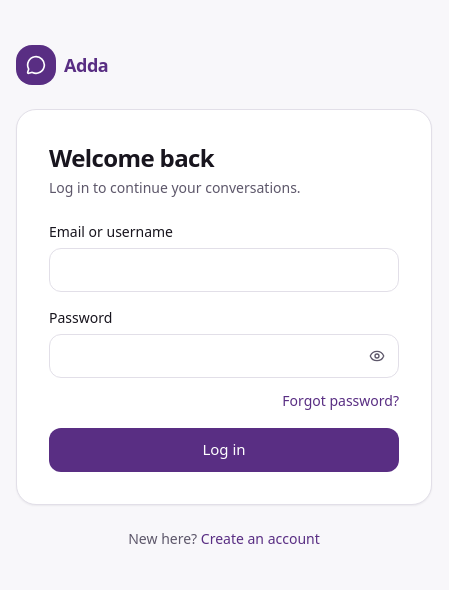
Test: LoginPage › shows the server error for wrong credentials
This screenshot has width=449, height=590.
Type "nadia" into the field labelled "Email or username" at (224, 270), box x1=49 y1=248 x2=399 y2=292
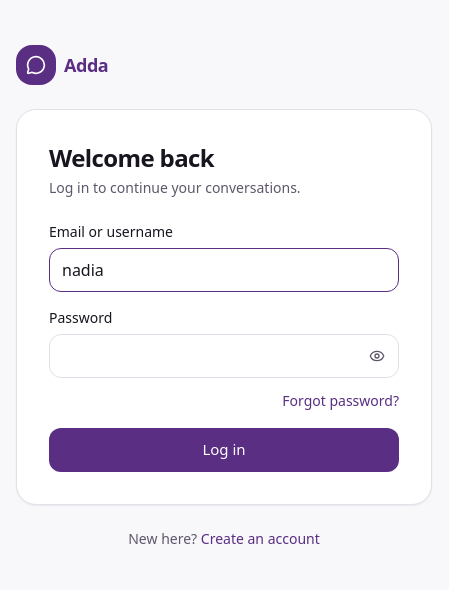
Type "wrong-password" into the password field labelled "Password" at (224, 356), box x1=49 y1=334 x2=399 y2=378
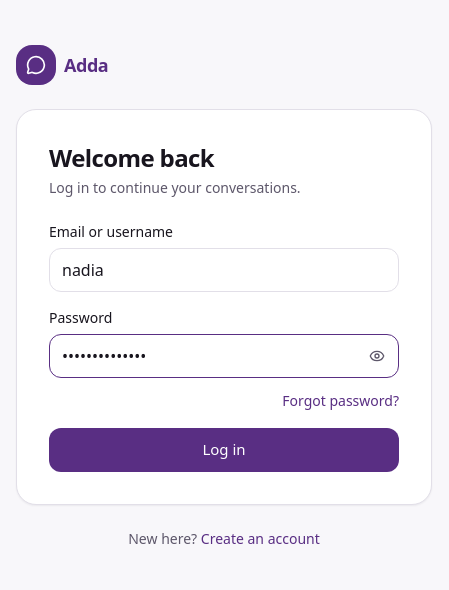
Click the button "Log in" at (224, 450), box x1=49 y1=428 x2=399 y2=472
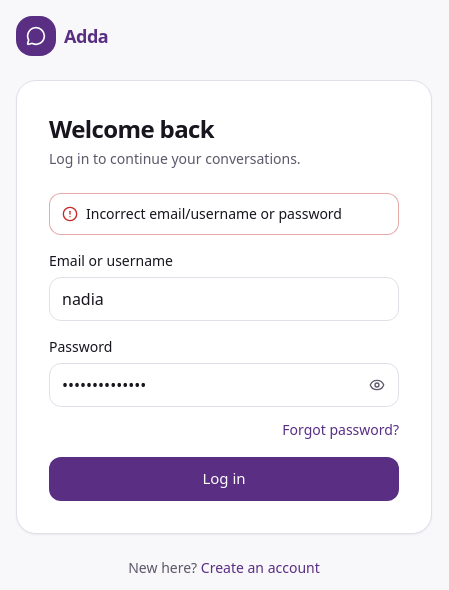
Expected: the message reads "Incorrect email/username or password", x1=86 y1=204 x2=342 y2=223
